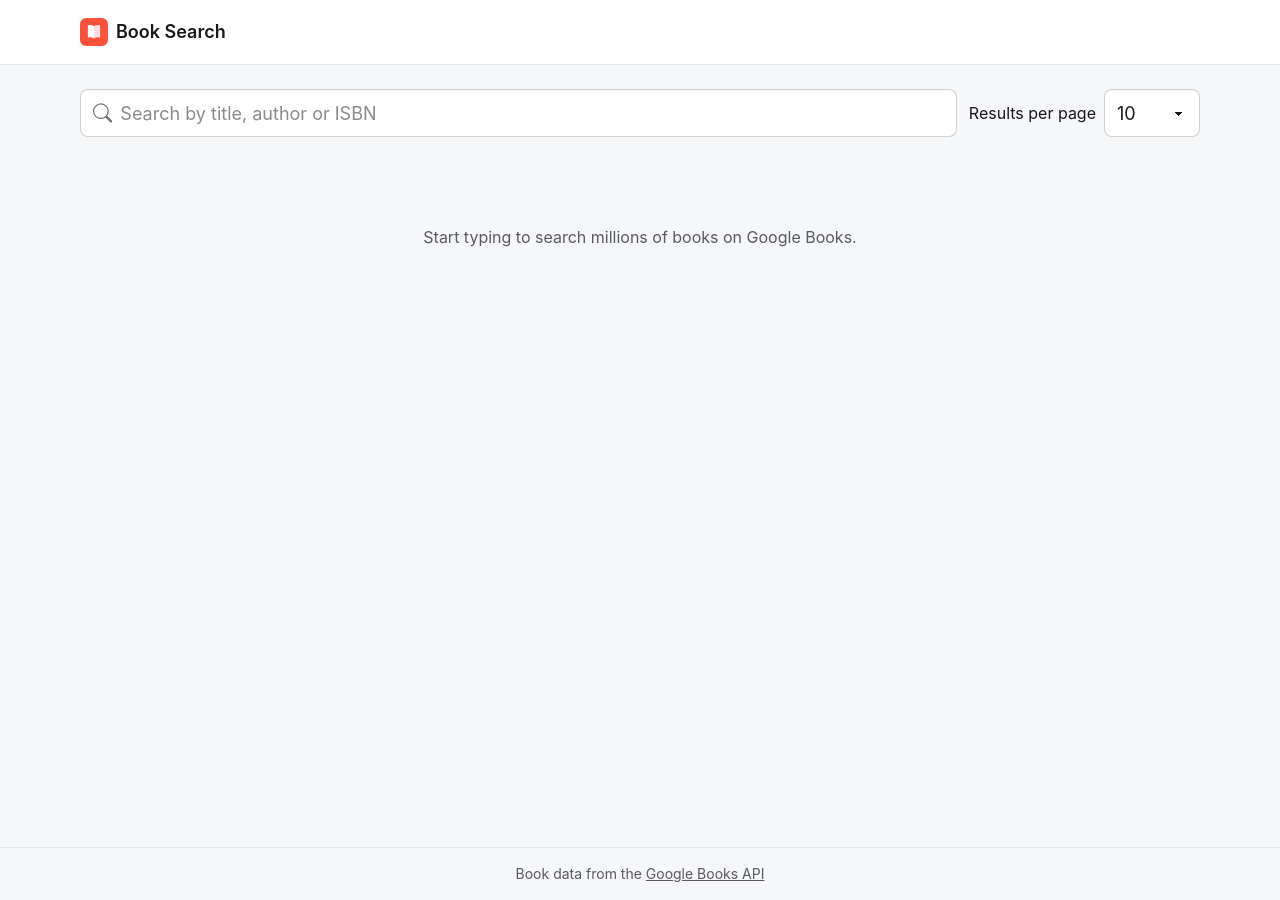
it: Search page › live search › shows the results of what is typed, with the default page size
This screenshot has width=1280, height=900.
In the search field named "Search books": (532, 113) [120,90,944,136], type "dune"
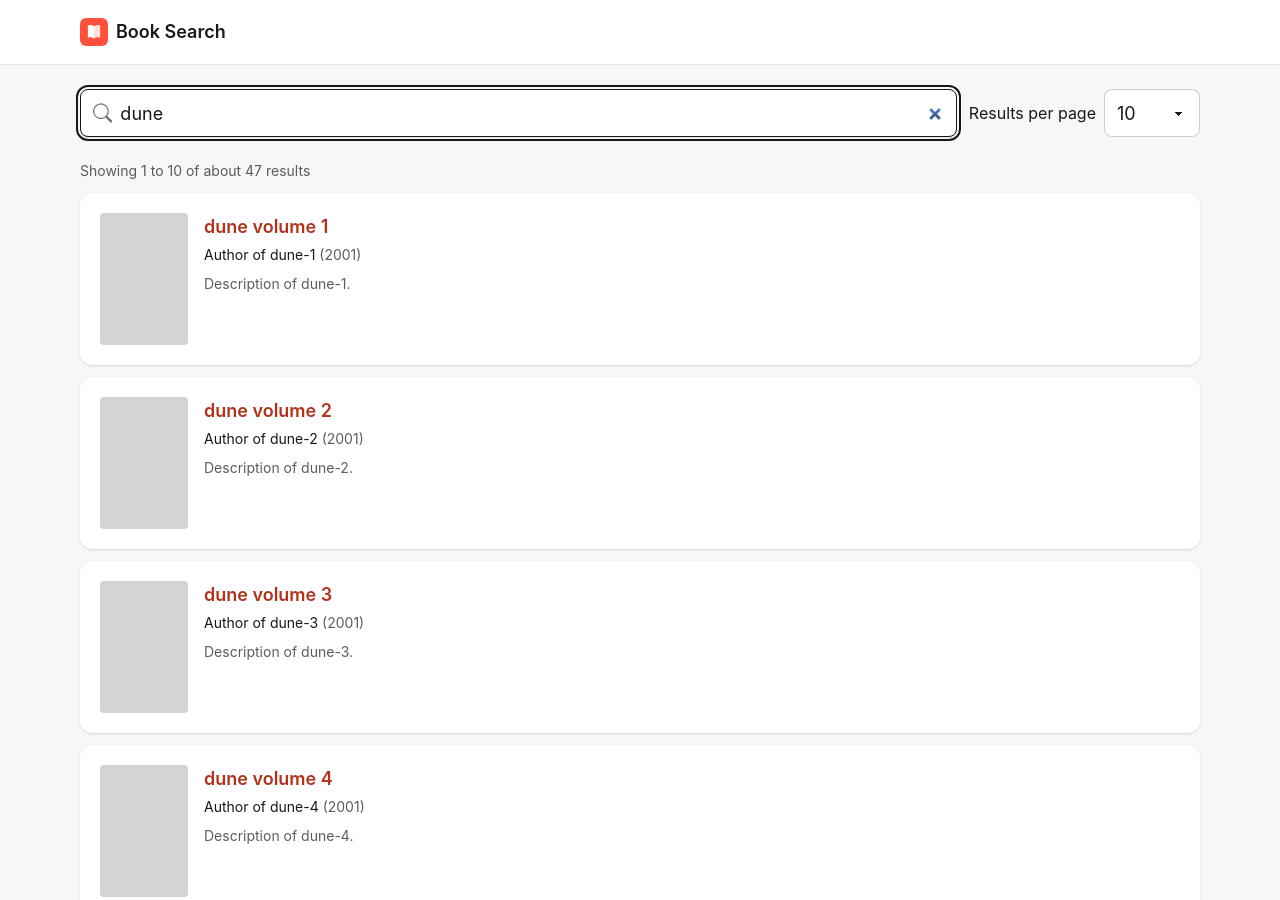
Expected: the link "dune volume 1" is shown, [204,216,328,237]
Expected: the number of links "dune volume 1" is 10
